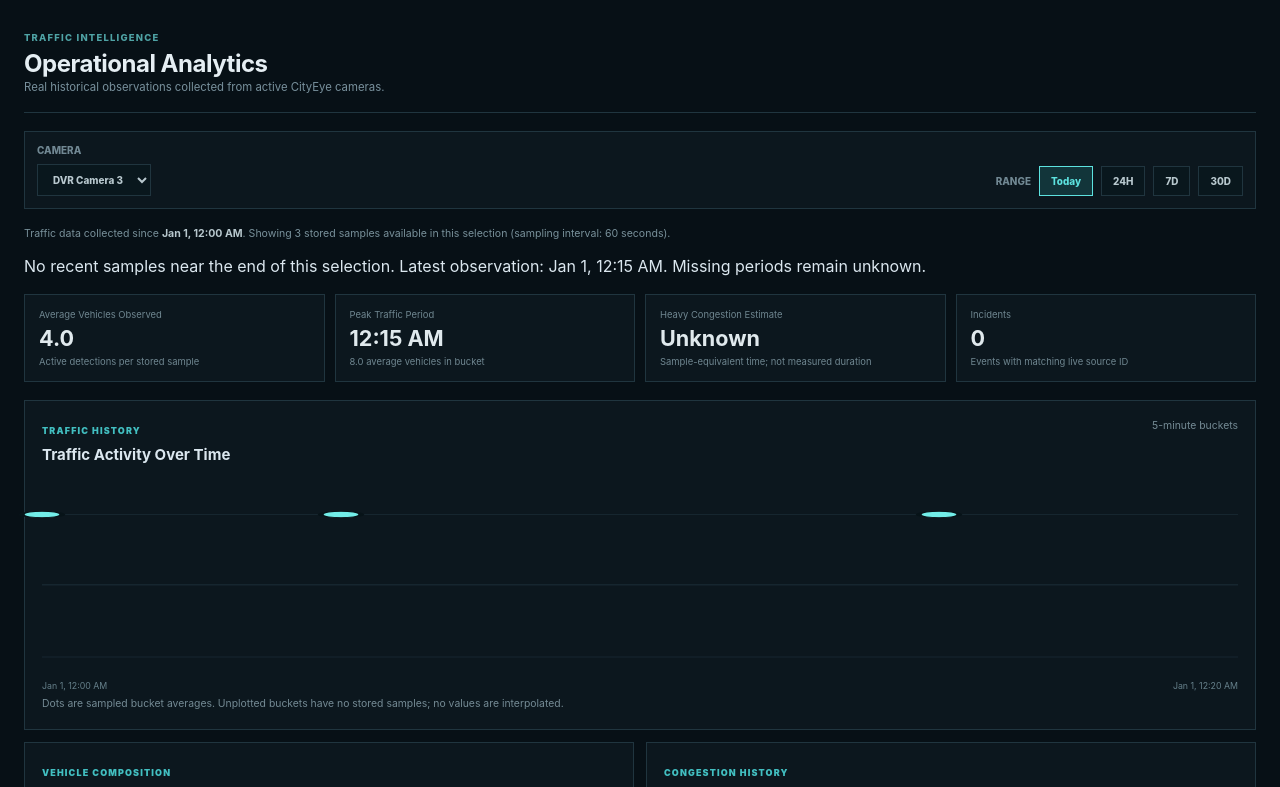
Test case: does not retain the previous camera values after a failed selection and supports retry
Select "DVR Camera 5" in the dropdown: (94, 180) x1=37 y1=164 x2=151 y2=196
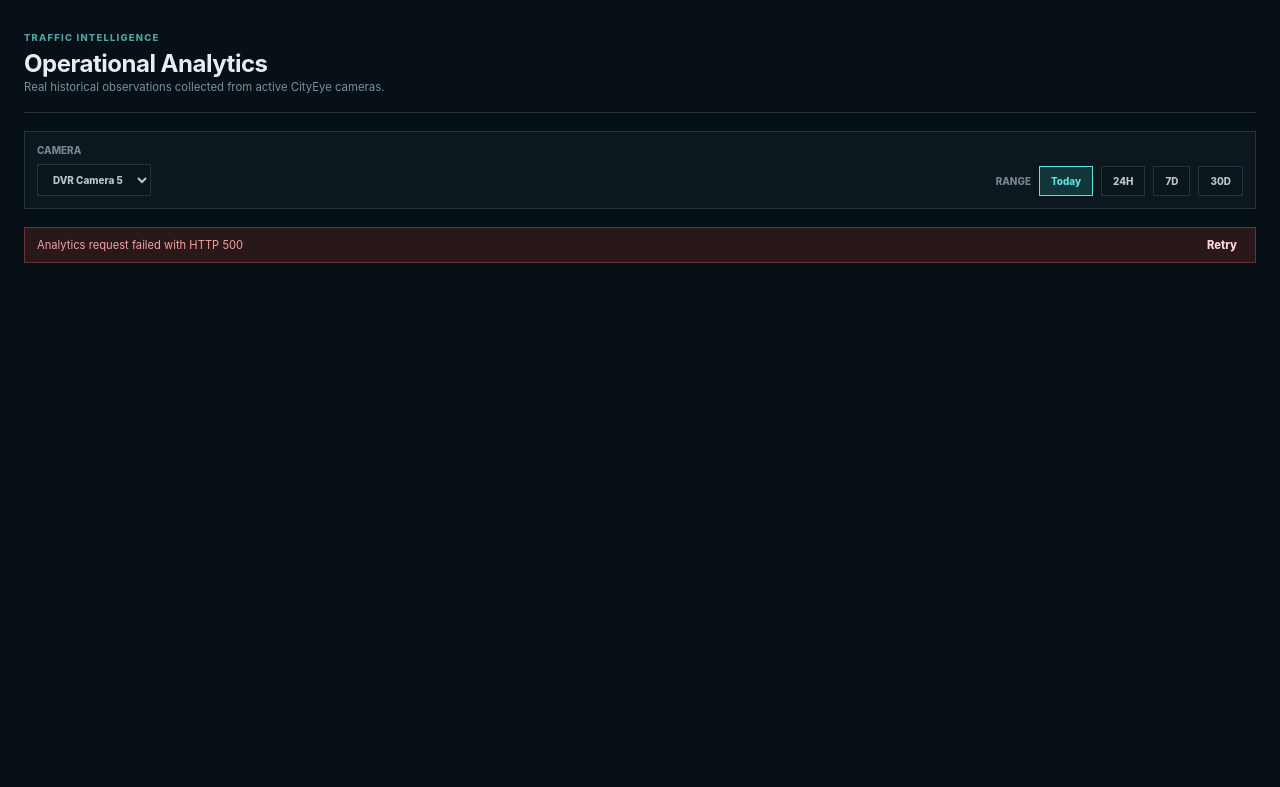
expect the message shows "HTTP 500": met, box x1=37 y1=238 x2=243 y2=252
Click the button "Retry": click(1222, 245) x1=1201 y1=237 x2=1243 y2=253
(page scrolled)
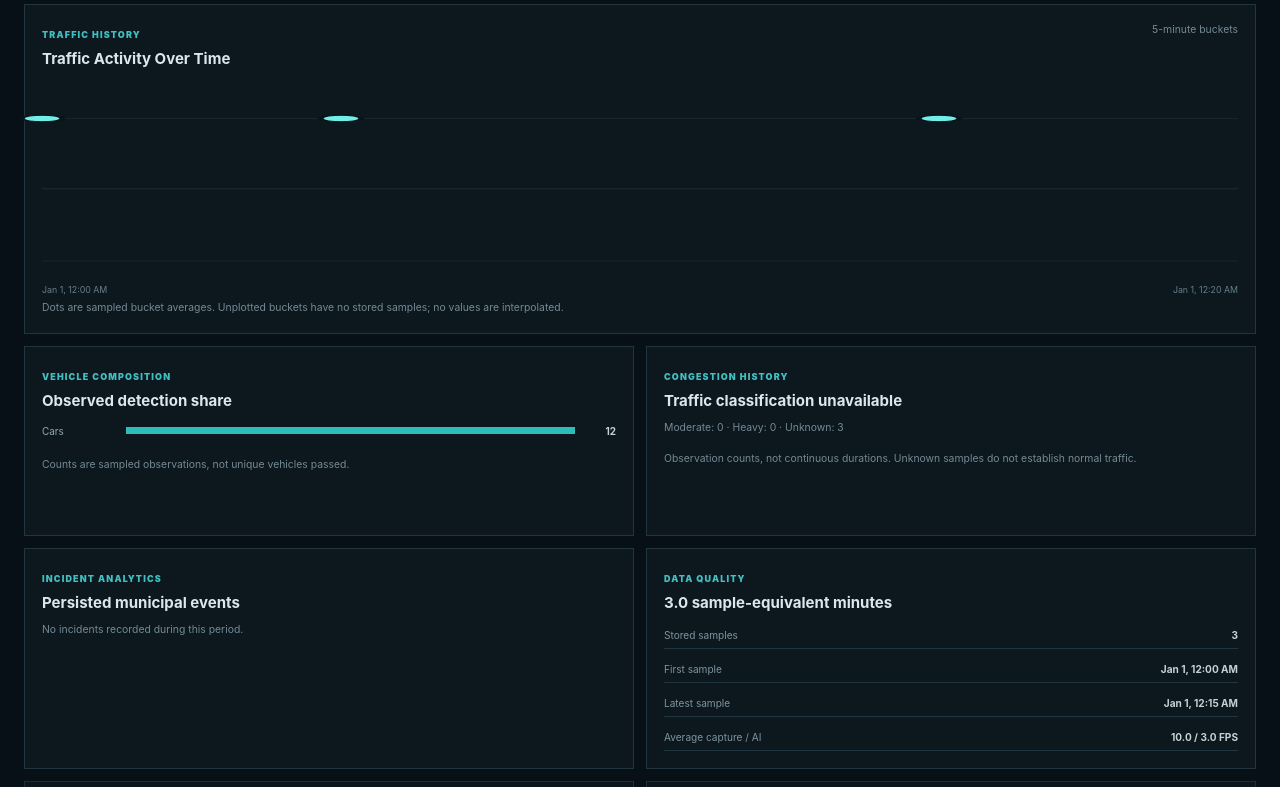
expect the heading "Observed detection share" is shown: met, box x1=42 y1=391 x2=232 y2=410
